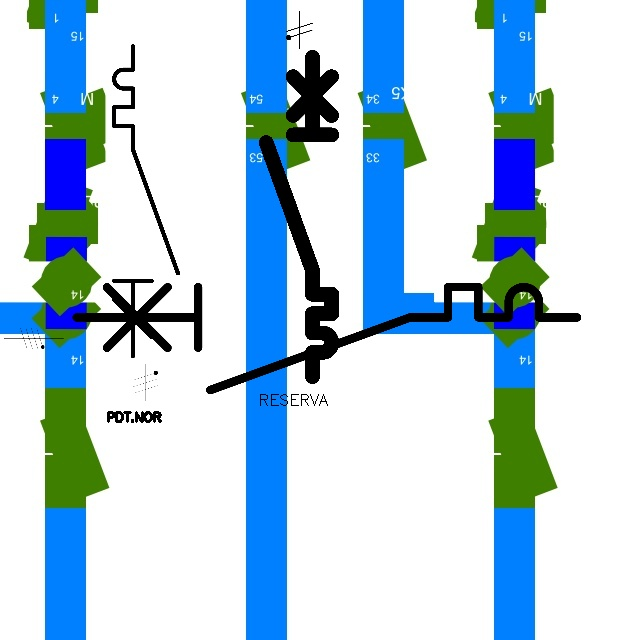interruptor_termomagnetico: (63, 274, 589, 403), (258, 49, 340, 385), (106, 38, 186, 364)
